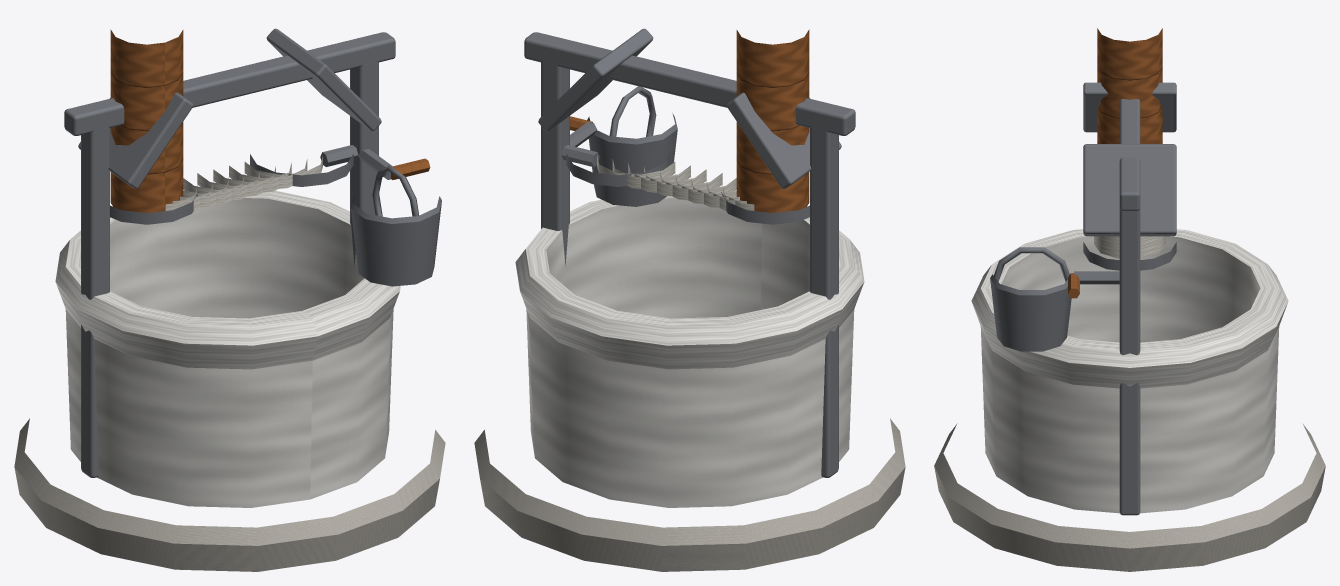
The model's file is greek-island-village-and-harbour-wellhead-2a40fc64__37114.glb.
The picture shows the model from 3 angles, left to right: view 1: azimuth 30°, elevation 25°; view 2: azimuth 150°, elevation 25°; view 3: azimuth 270°, elevation 25°; orthographic projection. The views are drawn at different scales.
Parts seen in each view (by area): view 1: wellhead, well-winder/timber, well-winder/canvas, well-winder/iron; view 2: wellhead, well-winder/timber, well-winder/canvas, well-winder/iron; view 3: wellhead, well-winder/timber, well-winder/iron, well-winder/canvas.
Boxes of the visible parts, x1,y1,x2,y2 form: wellhead: (14,28,445,571); well-winder/timber: (110,29,430,212); well-winder/canvas: (165,155,322,210); well-winder/iron: (110,145,393,224); wellhead: (474,28,905,571); well-winder/timber: (570,29,809,212); well-winder/canvas: (597,155,754,210); well-winder/iron: (561,122,809,224); wellhead: (934,82,1325,571); well-winder/timber: (1068,28,1162,298); well-winder/iron: (1074,242,1176,284); well-winder/canvas: (1094,236,1165,258).
Size of the model in its own units: 1.68 by 2.02 by 1.68.
5 materials, 4 textured.
